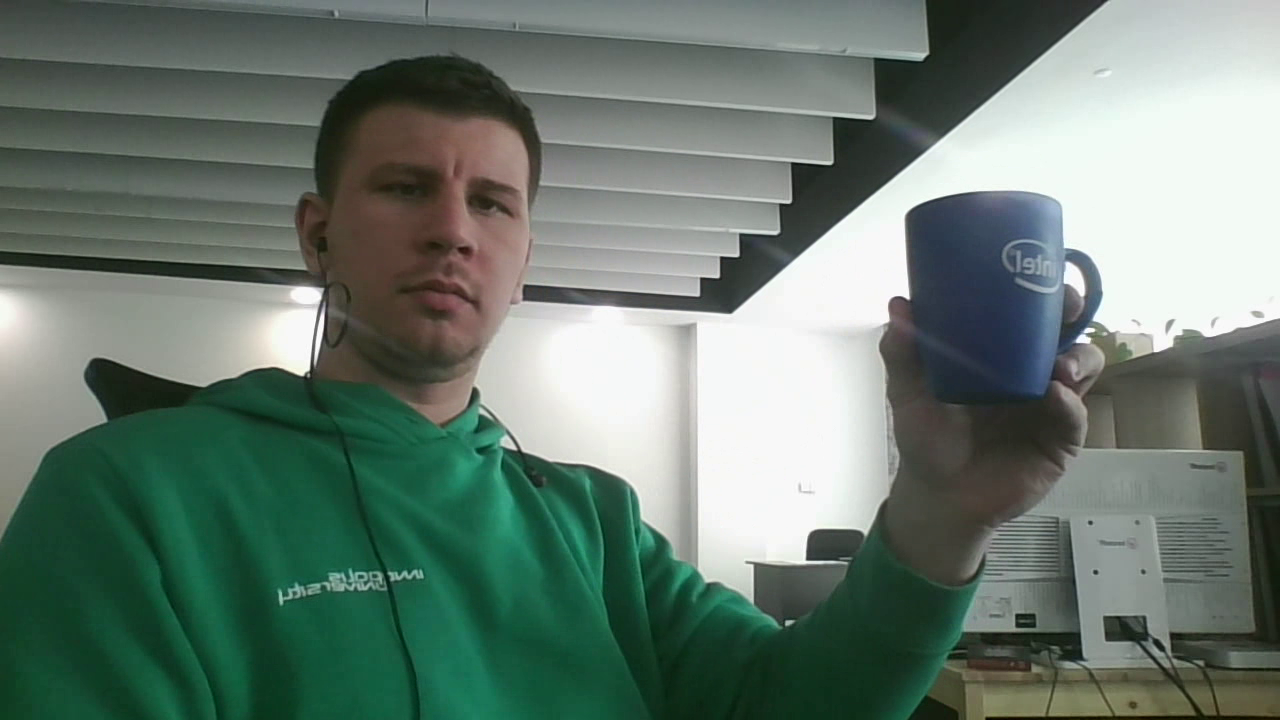cup: (903, 188, 1104, 407)
